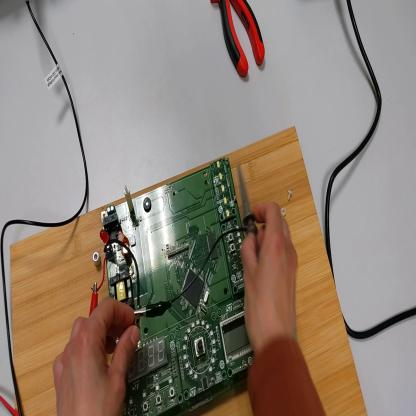hand: (53, 296, 138, 416), (241, 201, 300, 350)
oscilloscope probe tip: (234, 170, 258, 257)
pliers: (212, 2, 266, 83)
working area: (13, 128, 368, 414)
